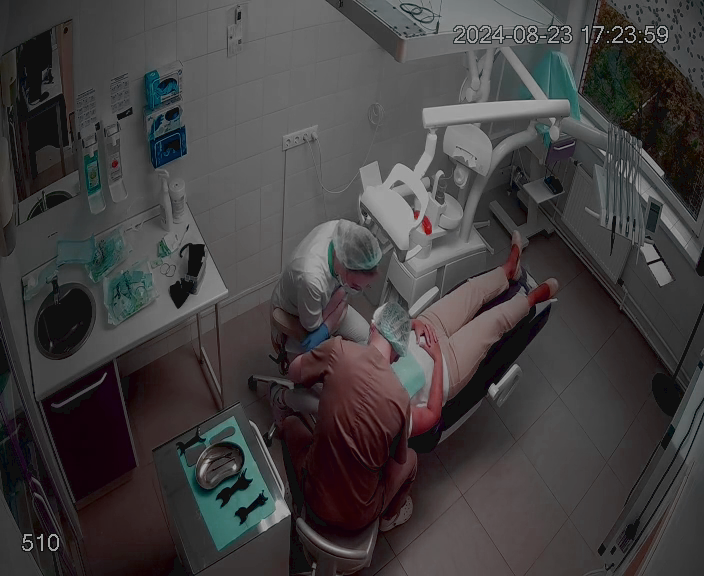Patient: (300, 229, 562, 456)
